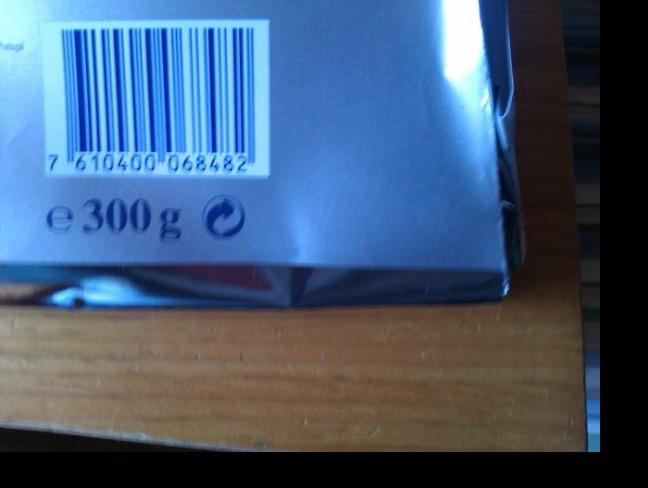Barcode: (44, 26, 263, 174)
